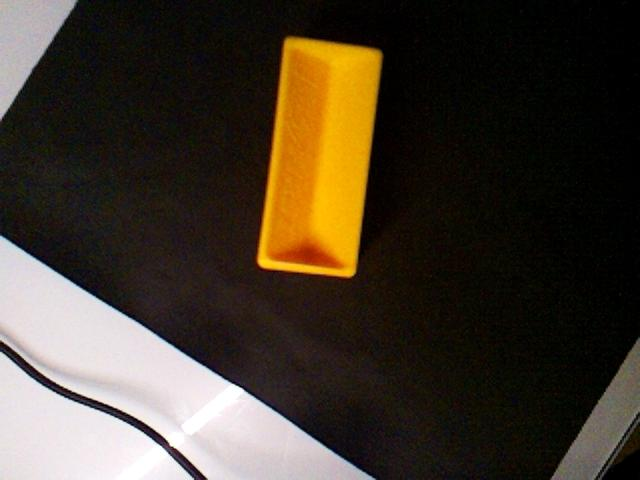yellow: (256, 34, 384, 280)
